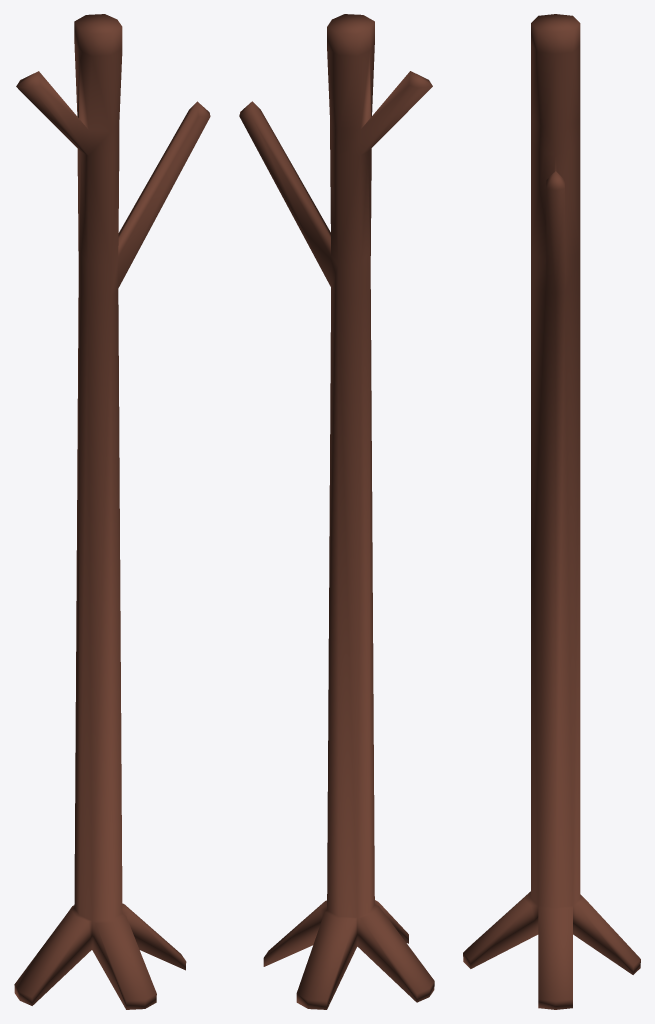
Rendered from CoatRack.fbx.
The picture shows the model from 3 angles, left to right: view 1: azimuth 30°, elevation 25°; view 2: azimuth 150°, elevation 25°; view 3: azimuth 270°, elevation 25°; orthographic projection.
Visible parts, largest first — view 1: Cube.073; view 2: Cube.073; view 3: Cube.073.
Part boxes in pixels (left/top/right/bottom): Cube.073: left=14, top=14, right=210, bottom=1009; Cube.073: left=239, top=14, right=434, bottom=1009; Cube.073: left=463, top=14, right=640, bottom=1009.
Bounding box in the file's own units: 45.35 × 215 × 36.57.
